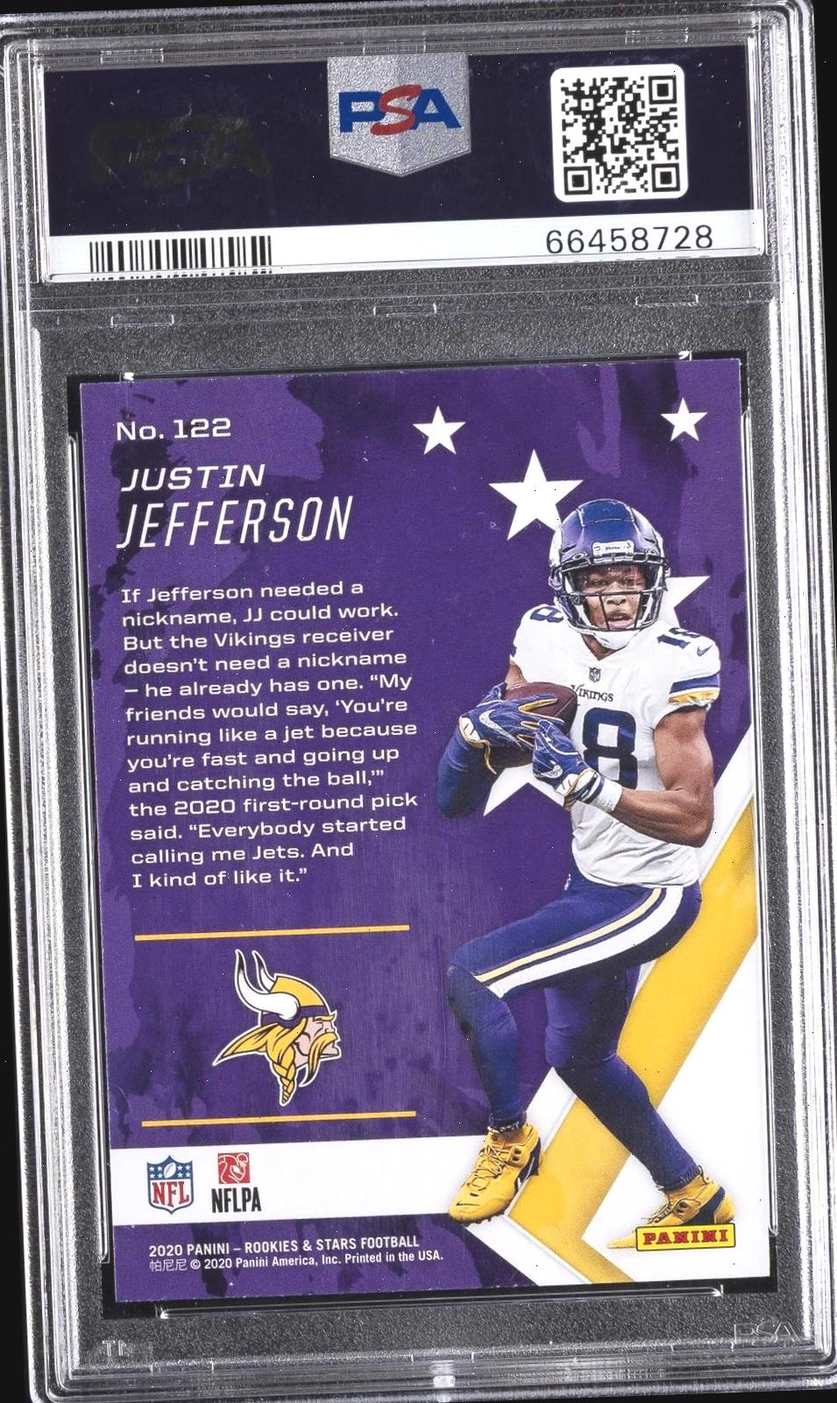card-2UtV: (78, 357, 771, 1303)
